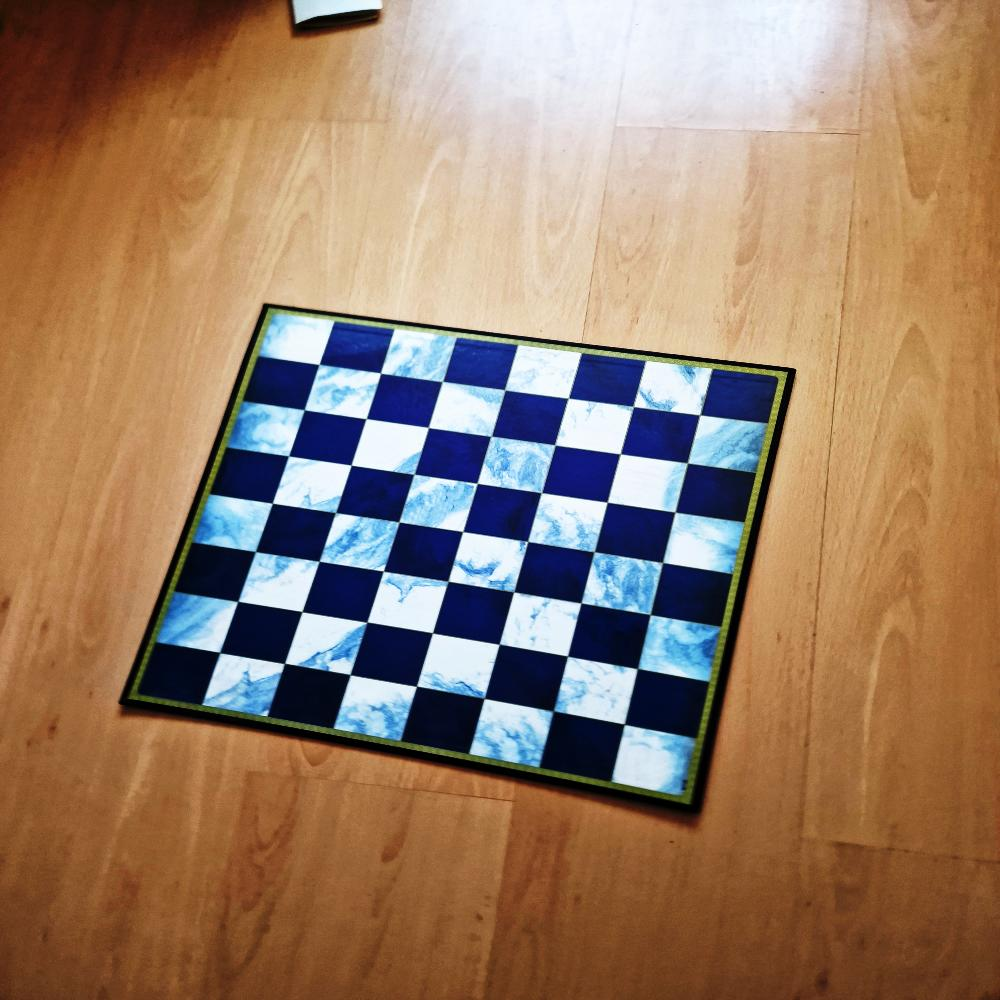chessfield: (614, 727, 700, 806), (557, 659, 644, 729), (336, 676, 422, 744), (641, 618, 724, 686), (540, 712, 624, 779), (476, 704, 558, 772), (422, 636, 504, 701), (506, 597, 589, 661), (491, 646, 574, 710), (161, 591, 246, 653), (404, 689, 486, 753), (244, 550, 326, 612), (669, 514, 751, 576), (584, 552, 665, 614), (571, 610, 652, 672), (296, 616, 378, 677), (634, 670, 712, 733), (274, 670, 356, 729), (452, 534, 533, 593), (530, 496, 612, 554), (377, 572, 457, 631), (438, 582, 518, 641), (195, 493, 276, 551), (356, 626, 433, 687), (209, 654, 287, 714), (612, 457, 694, 514), (403, 476, 484, 533), (226, 607, 304, 666), (325, 516, 404, 574), (257, 310, 338, 366), (659, 568, 737, 626), (144, 645, 221, 703), (603, 508, 682, 564), (488, 437, 565, 494), (521, 544, 598, 601), (282, 456, 361, 511), (695, 418, 771, 475), (682, 466, 759, 522), (357, 420, 435, 475), (185, 544, 262, 599), (309, 366, 387, 420), (546, 446, 623, 500), (313, 564, 387, 620), (342, 469, 421, 521), (434, 386, 510, 440), (556, 402, 632, 456), (393, 527, 469, 581), (509, 347, 585, 400), (627, 411, 704, 463), (470, 487, 544, 541), (232, 403, 307, 456), (299, 414, 374, 466), (269, 508, 341, 562), (220, 449, 296, 500), (704, 368, 777, 421), (420, 430, 494, 482), (370, 375, 445, 426), (386, 334, 463, 383), (636, 362, 708, 414), (502, 397, 575, 447), (449, 341, 521, 391), (250, 360, 322, 410), (321, 323, 395, 371), (574, 358, 645, 407)
